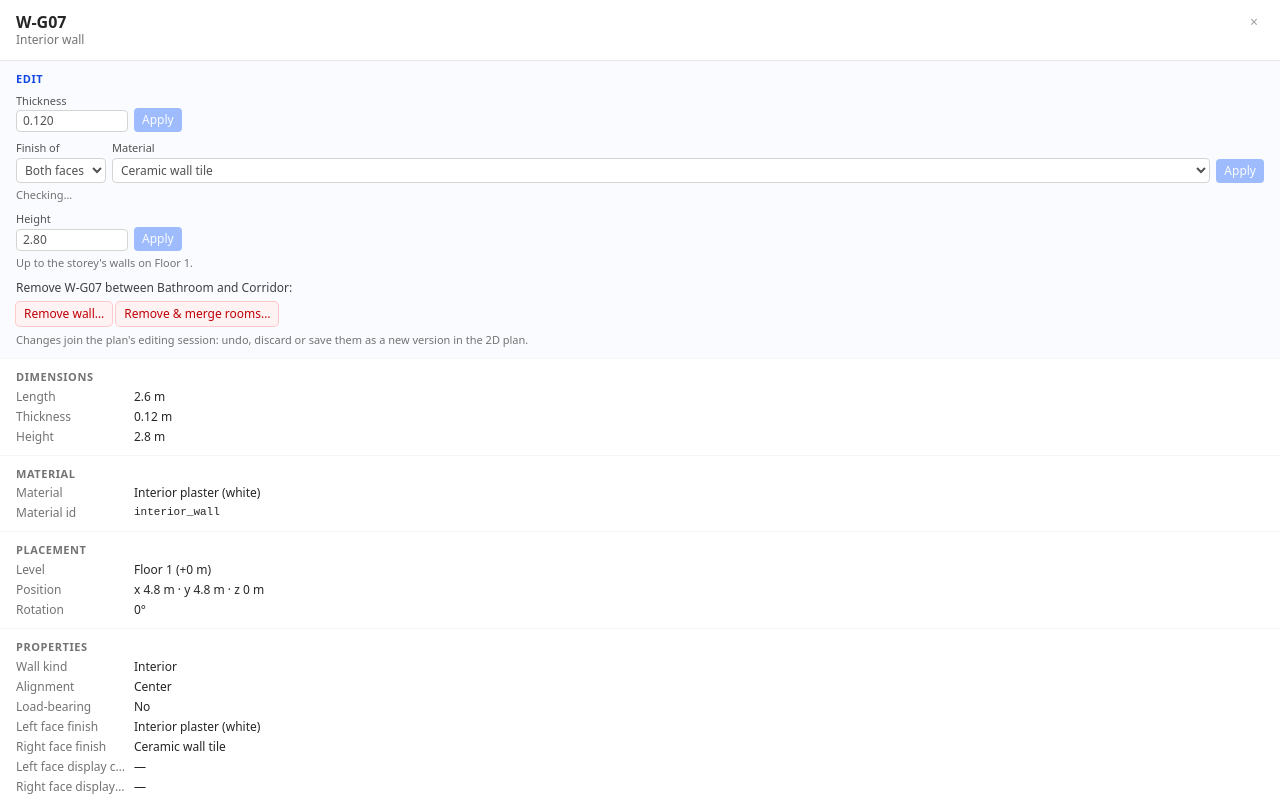
Scenario: Properties panel: interior walls › shows the reason a wall cannot be removed
Click the button "Remove wall…" at coordinates (64, 314), box [16, 302, 112, 326]
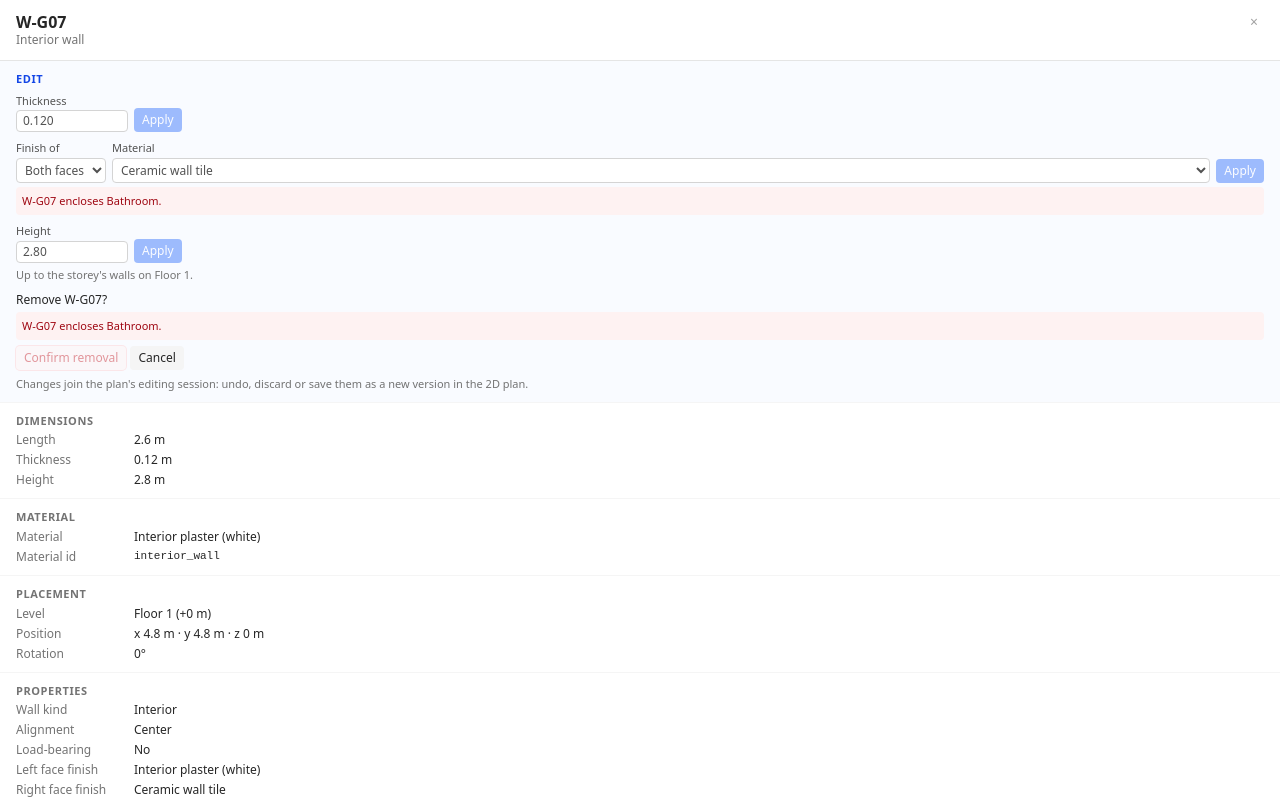
expect the message "W-G07 encloses Bathroom." below "Finish of" is shown: met, box [22, 193, 162, 208]
expect the button "Confirm removal" is disabled: met, box [16, 346, 126, 370]
